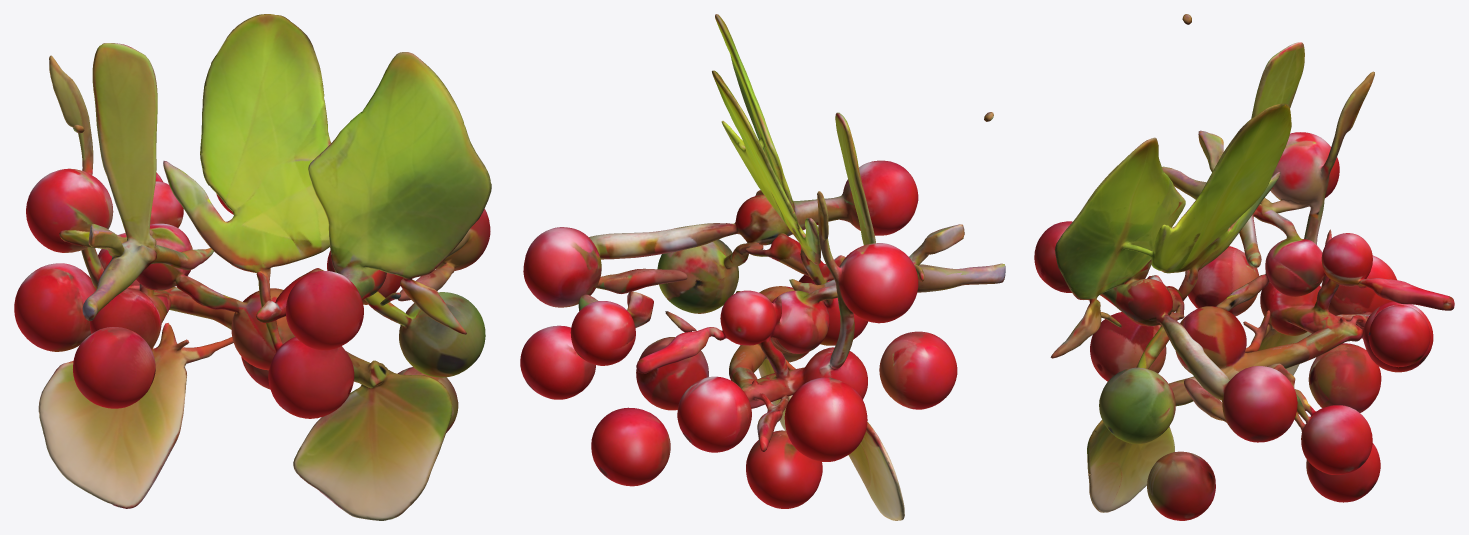
The model's file is tree0061.gltf.
3 views of the same model, side by side, from view 1: azimuth 30°, elevation 25°; view 2: azimuth 150°, elevation 25°; view 3: azimuth 270°, elevation 25° (orthographic). The views are drawn at different scales.
Parts seen in each view (by area): view 1: Mesh_0; view 2: Mesh_0; view 3: Mesh_0.
Boxes of the visible parts, bbox=[...] form: Mesh_0: bbox=[14, 14, 491, 520]; Mesh_0: bbox=[520, 14, 1005, 520]; Mesh_0: bbox=[1034, 14, 1454, 520].
Bounding box in the file's own units: 2 × 1.88 × 1.8.
1 material, 1 textured.
